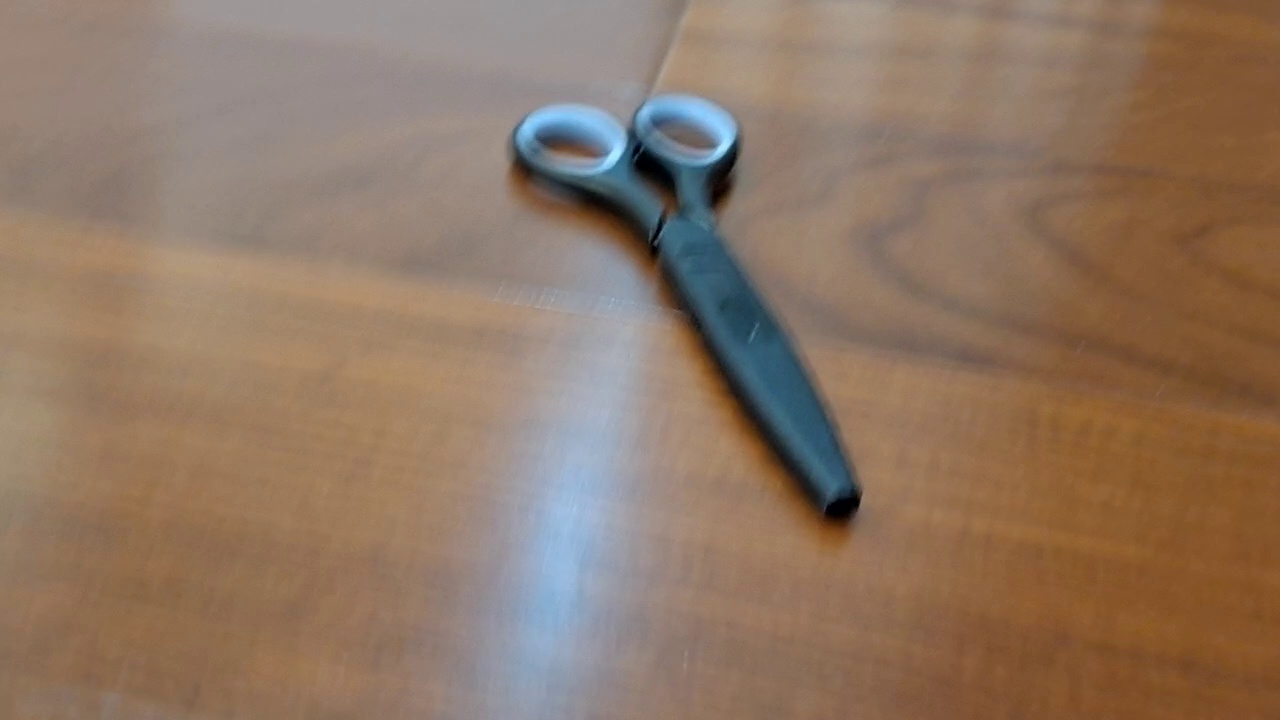scissors: (506, 90, 863, 521)
